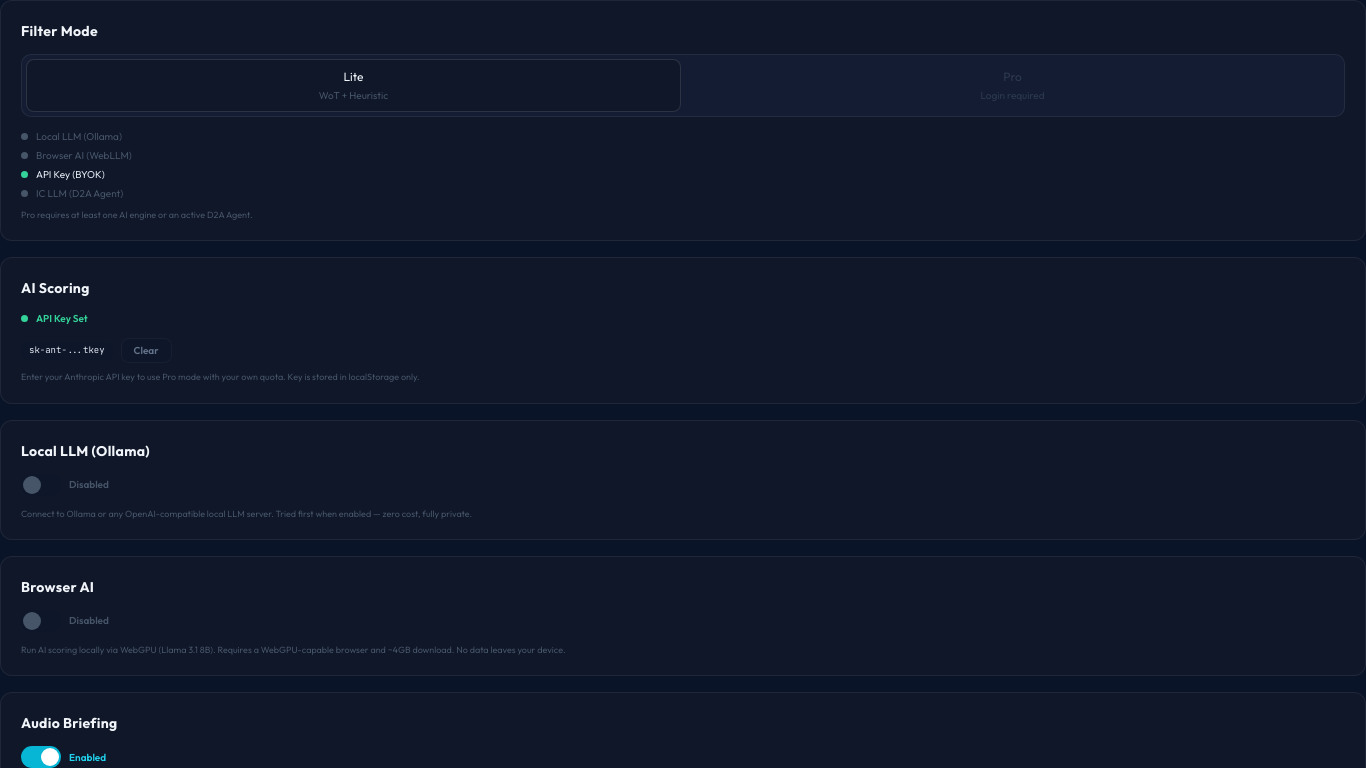
FeedSection — Clear key cancel › cancels key removal on Cancel
Click the button "Clear": [146, 351] box [121,338,172,363]
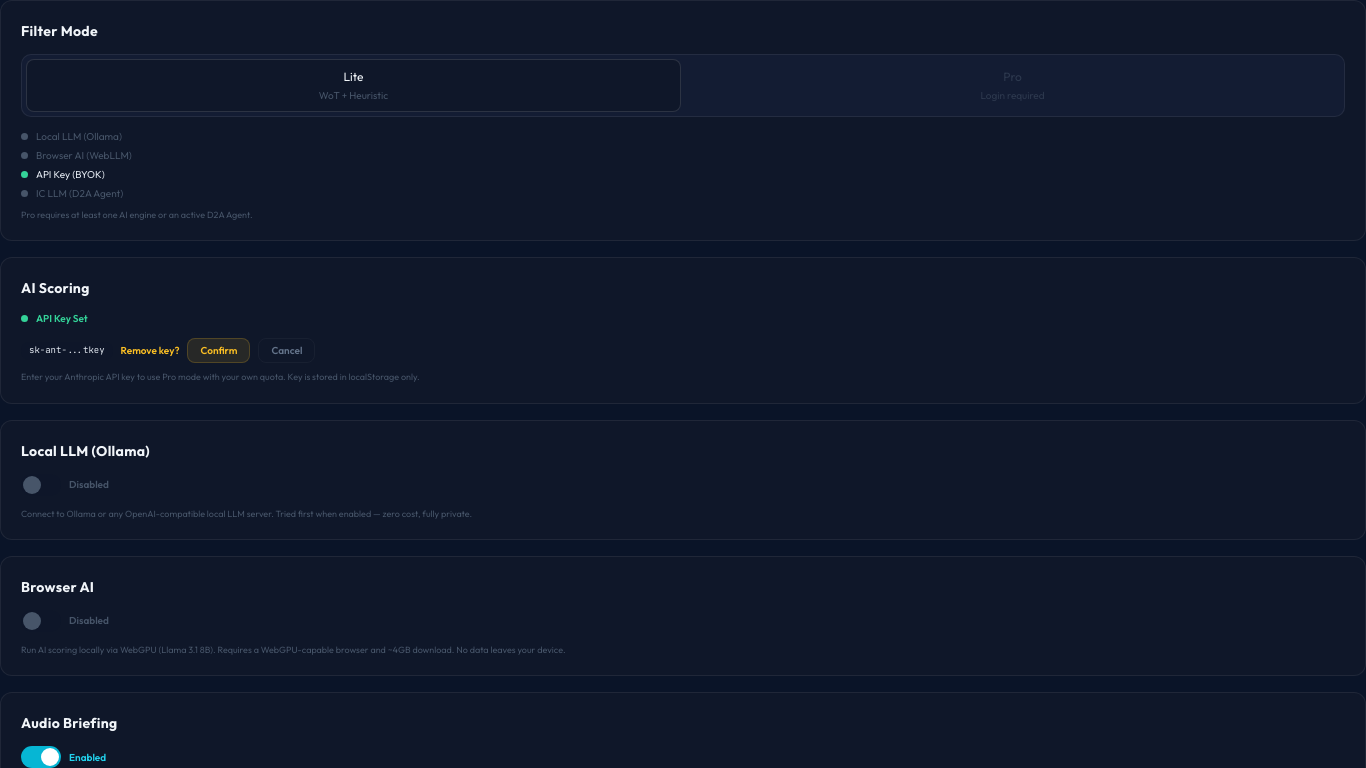
Check: the text "Remove key?" is shown, box [121,343,180,358]
Click the button "Cancel": [287, 351] box [258,338,315,363]
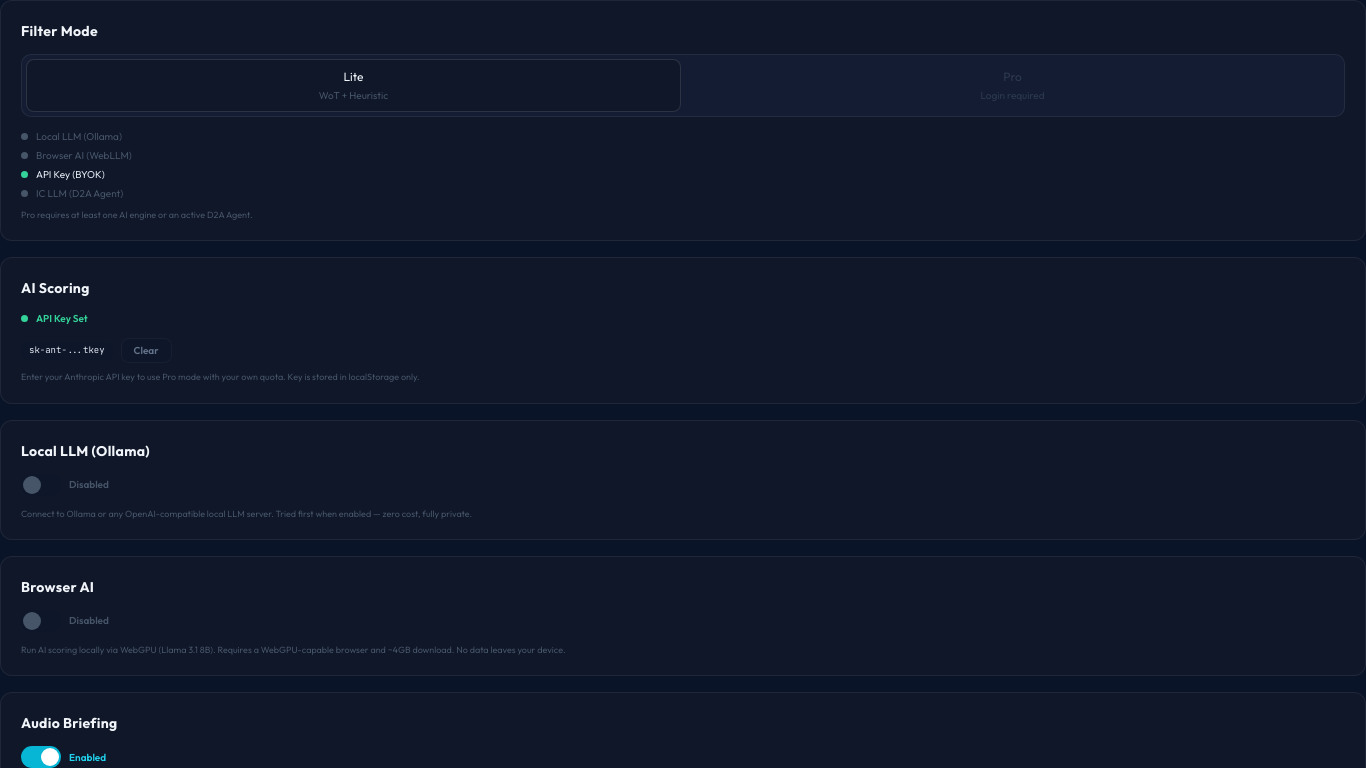
Check: the button "Clear" is shown, box [121,338,172,363]
Check: the text "Remove key?" is gone
